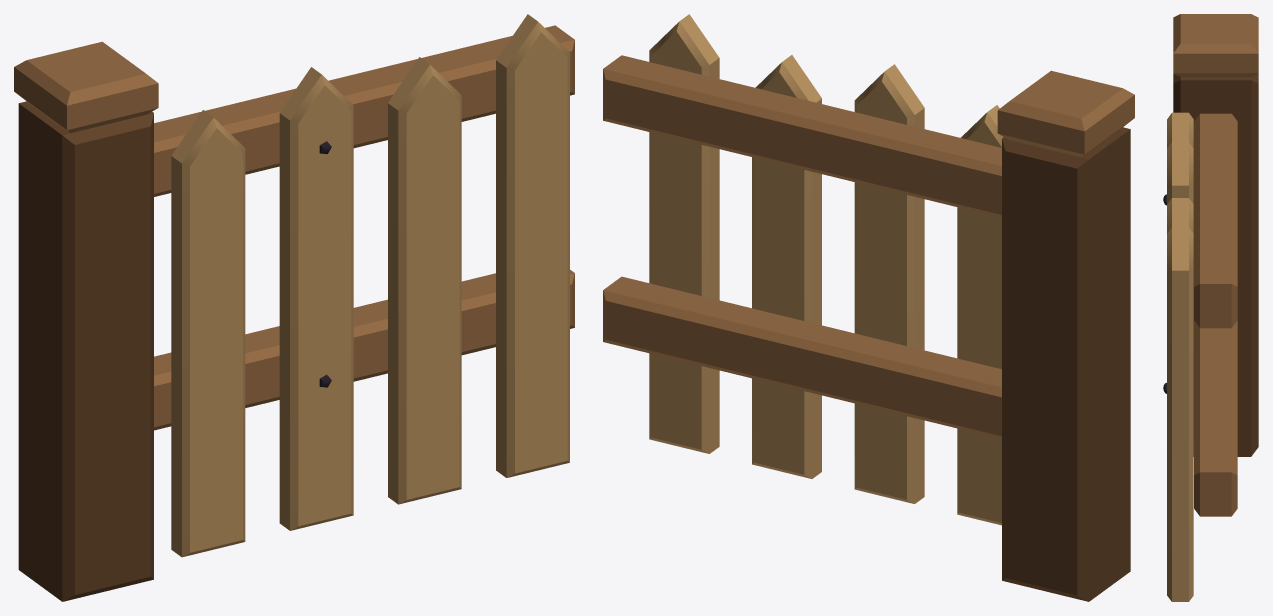
The model's file is Fence_05.glb.
3 views of the same model, side by side, from view 1: azimuth 30°, elevation 25°; view 2: azimuth 150°, elevation 25°; view 3: azimuth 270°, elevation 25° (orthographic). The views are drawn at different scales.
Visible parts, largest first — view 1: Fence_05; view 2: Fence_05; view 3: Fence_05.
Part boxes in pixels (left/top/right/bottom): Fence_05: left=14, top=14, right=574, bottom=601; Fence_05: left=603, top=14, right=1134, bottom=601; Fence_05: left=1163, top=14, right=1258, bottom=601.
Size of the model in its own units: 4 by 3.7 by 0.7788.
